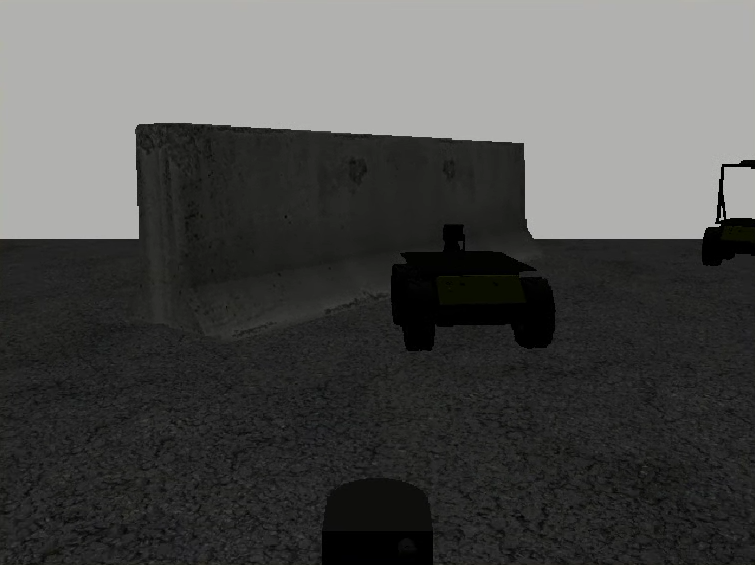husky: (390, 251, 556, 351), (700, 218, 755, 265)
